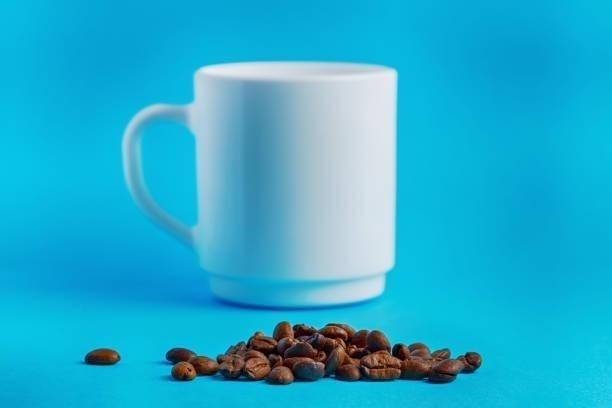cup-handle: (121, 57, 400, 311)
